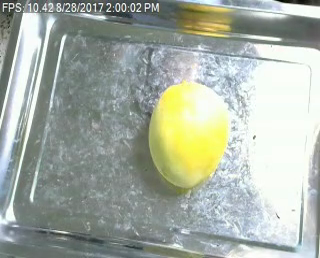Mango: (140, 75, 234, 186)
